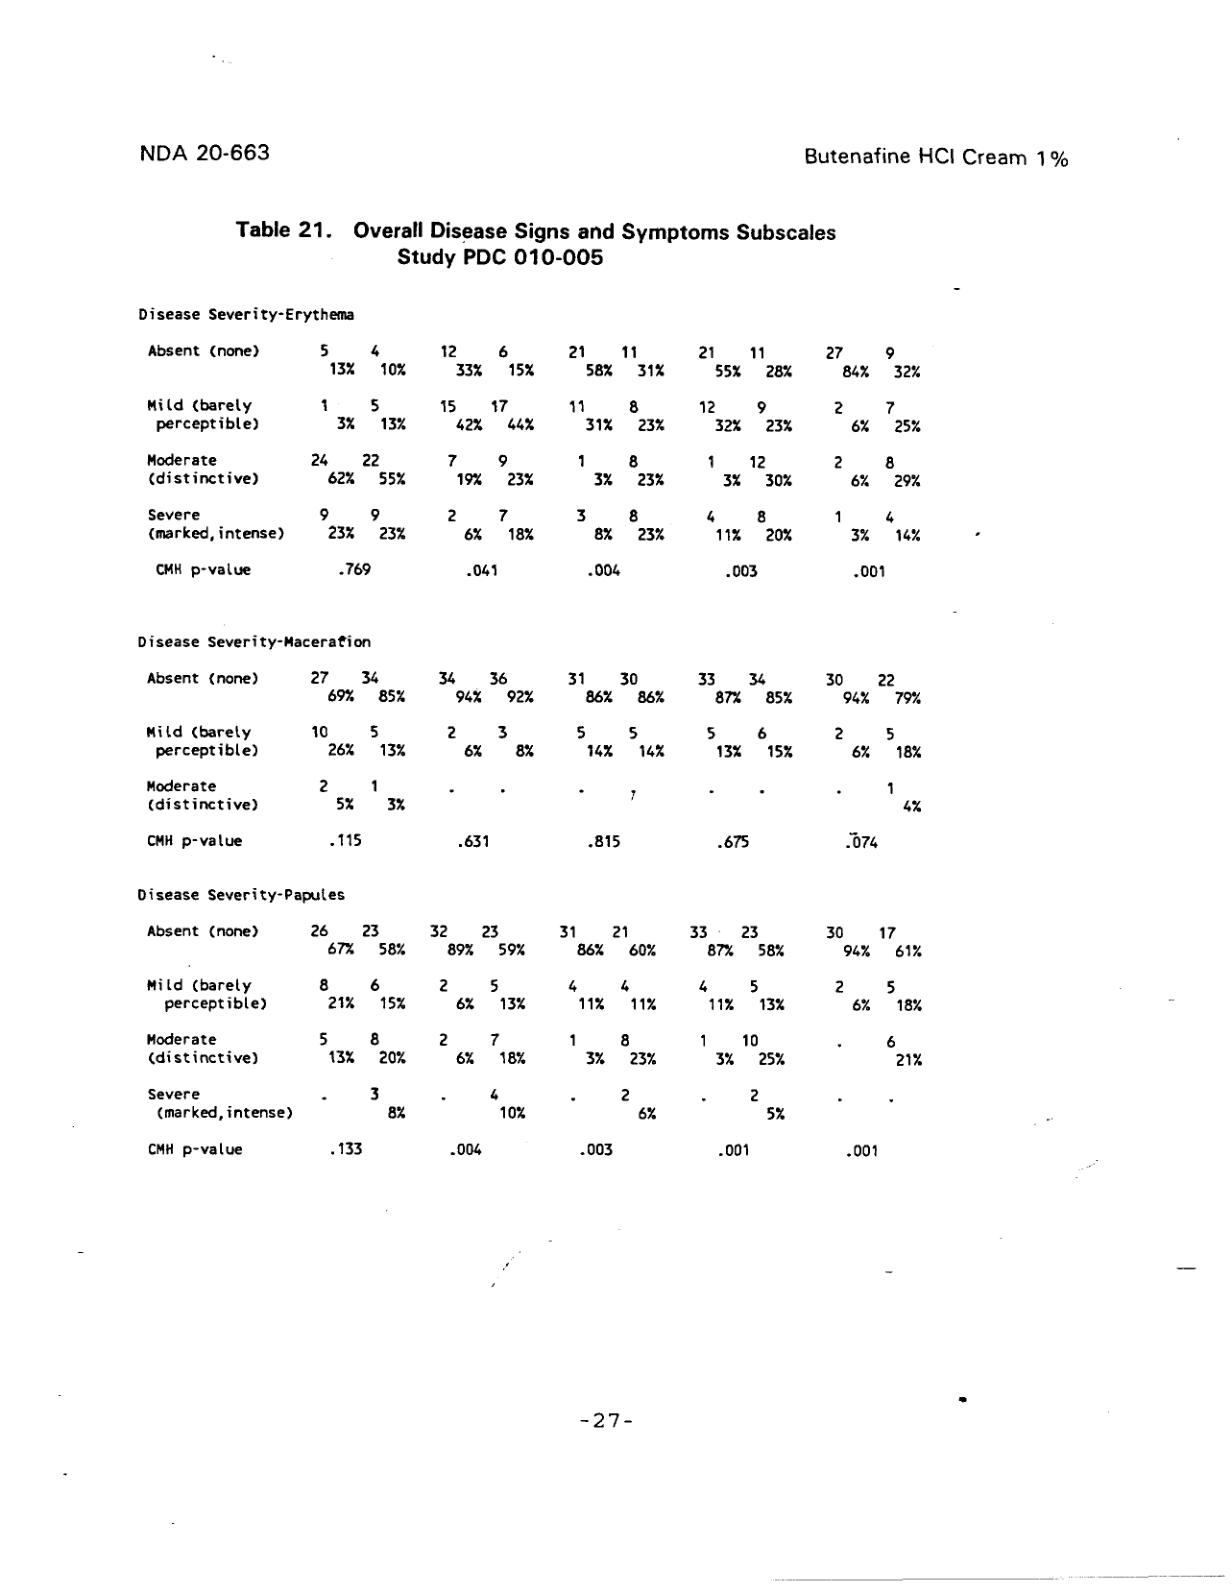nolines: (134, 305, 928, 1160)
